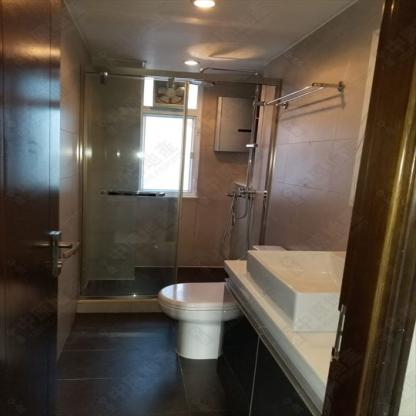Exhaust Fan: (152, 78, 187, 110)
Toilet: (158, 283, 225, 359)
Toilet Sink: (247, 250, 347, 331)
Water Cubicle: (75, 64, 199, 298)
Water Heater: (214, 97, 257, 151)
